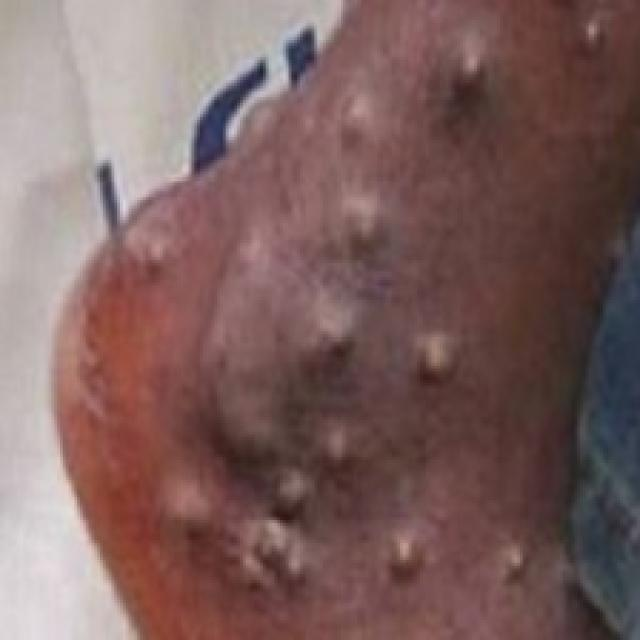Eczema: (126, 20, 614, 598)
